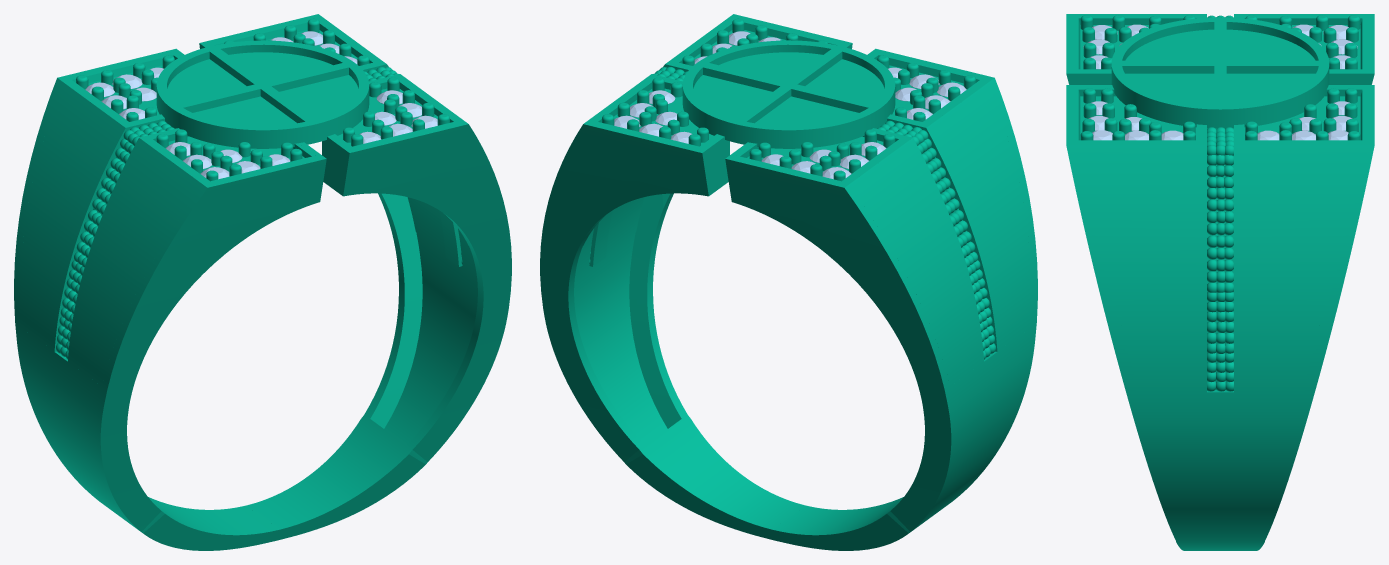
The picture shows the model from 3 angles, left to right: view 1: azimuth 30°, elevation 25°; view 2: azimuth 150°, elevation 25°; view 3: azimuth 270°, elevation 25°; orthographic projection. The views are drawn at different scales.
Parts seen in each view (by area): view 1: E 23.3dm; view 2: E 23.3dm; view 3: E 23.3dm.
Boxes of the visible parts, x1,y1,x2,y2 form: E 23.3dm: [14, 14, 511, 550]; E 23.3dm: [540, 14, 1037, 550]; E 23.3dm: [1066, 14, 1374, 550].
Bounding box in the file's own units: 2.52 × 2.64 × 1.62.
